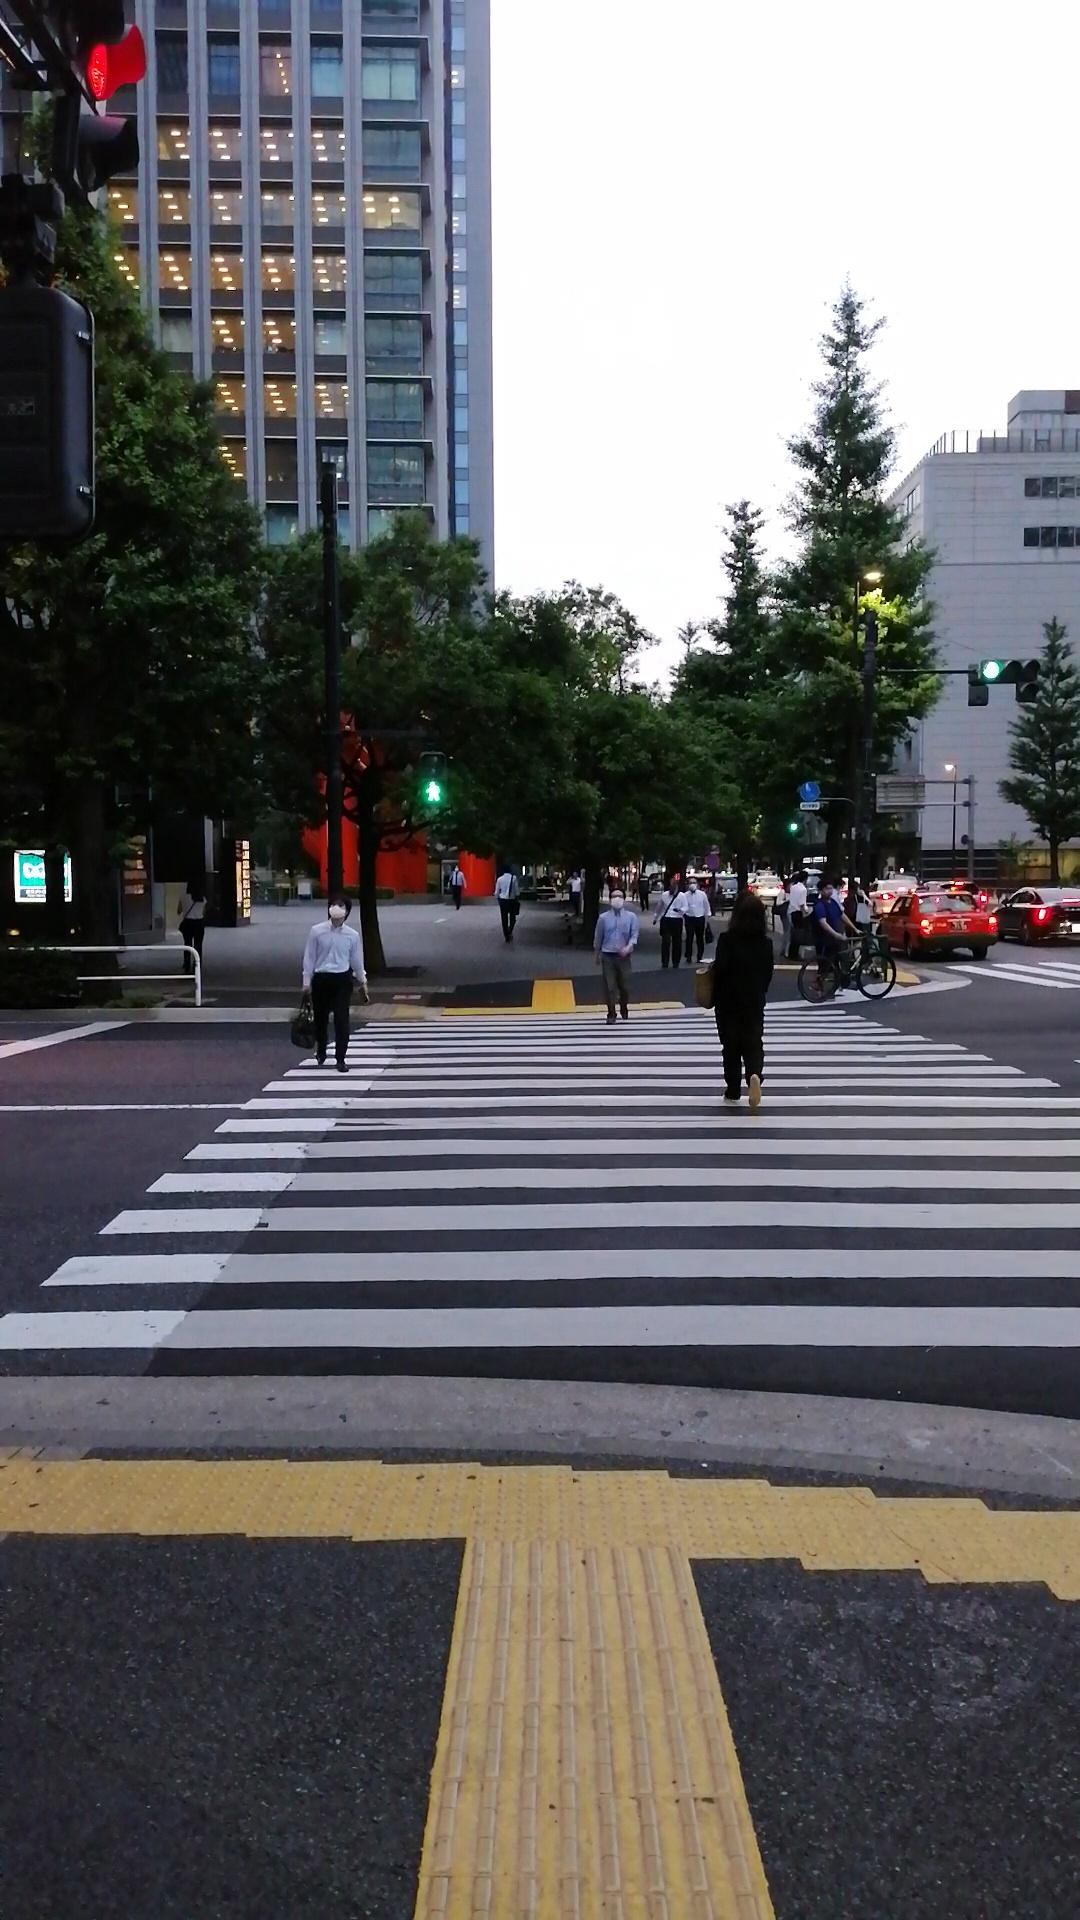green: (417, 752, 448, 806)
